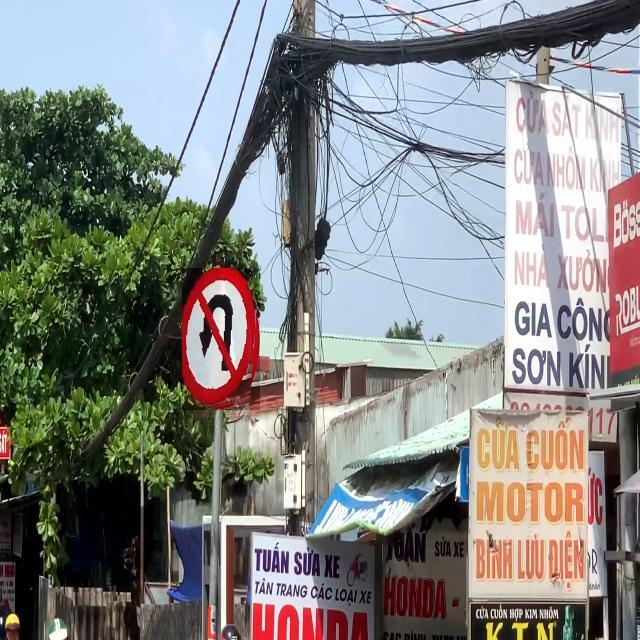P-124a: (182, 268, 260, 410)
